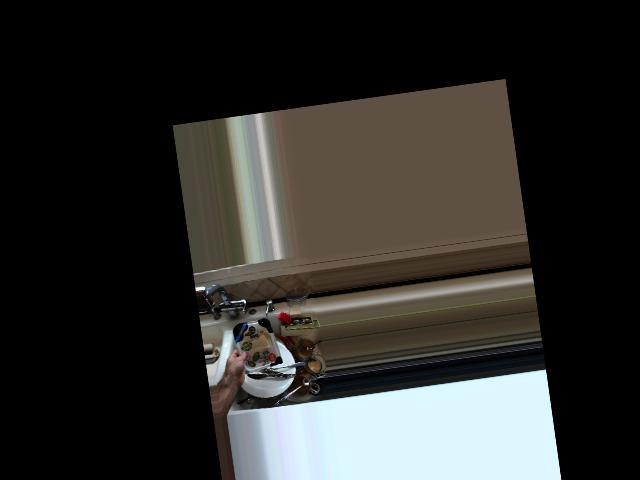cheese: (218, 313, 283, 384)
